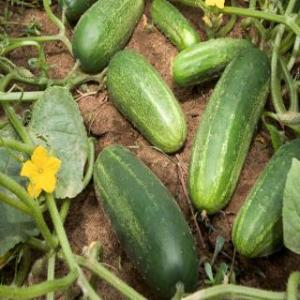cucumber: (89, 140, 199, 298), (180, 49, 274, 222), (104, 50, 188, 156), (232, 138, 300, 264), (71, 1, 145, 76), (174, 34, 256, 88), (149, 2, 202, 50)
